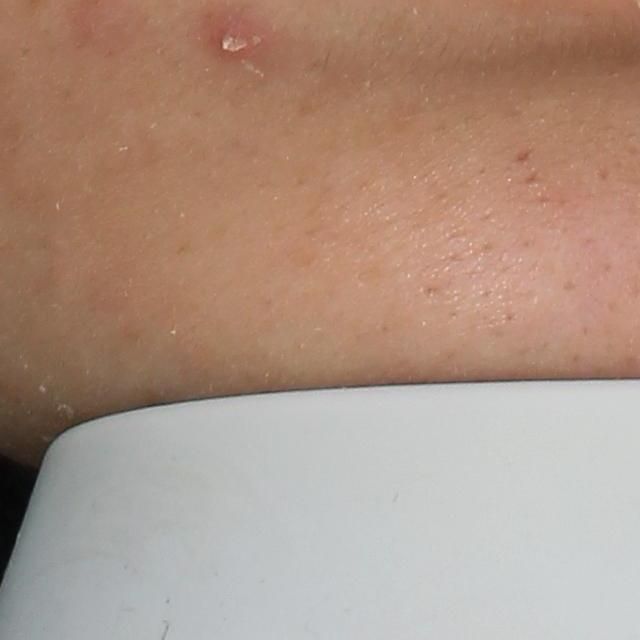atrophic_scar: (522, 165, 544, 187), (514, 147, 533, 161)
